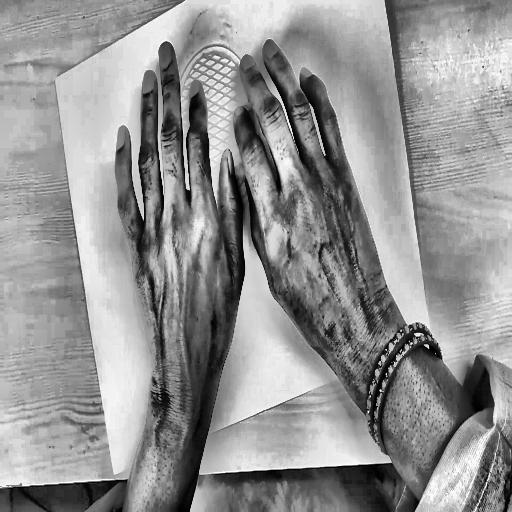badminton: (115, 0, 377, 426)
bottom_left: (111, 468, 117, 479)
bottom_right: (428, 334, 435, 346)
top_left: (53, 76, 58, 85)
